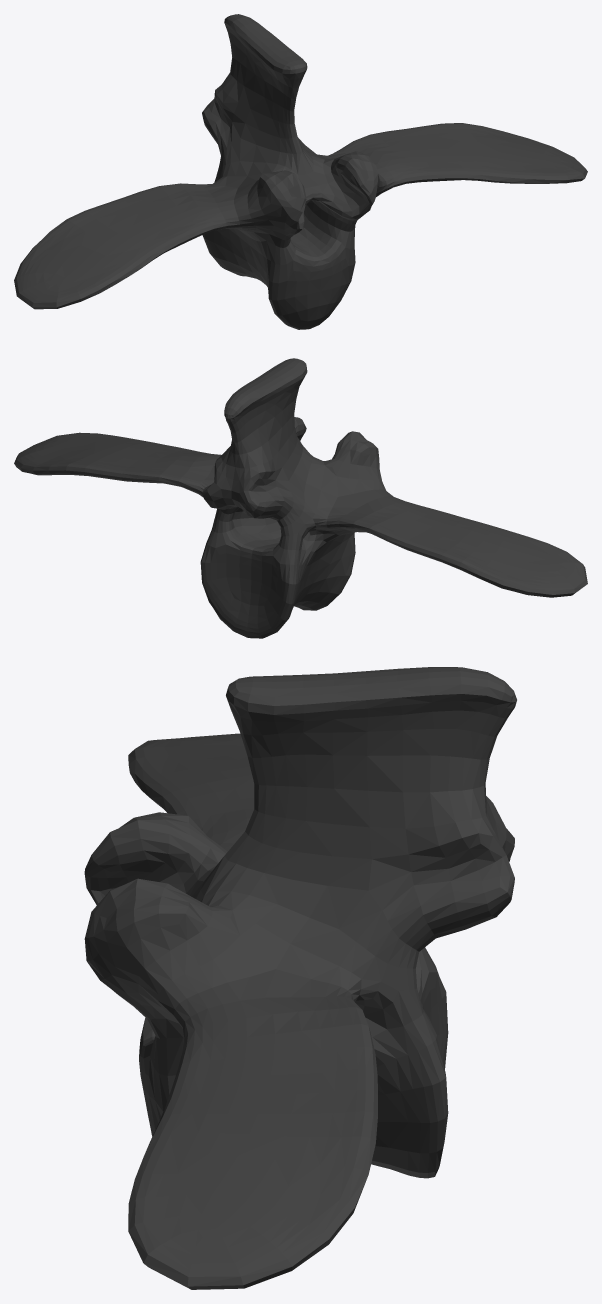
3 renders of one model, top to bottom at view 1: azimuth 30°, elevation 25°; view 2: azimuth 150°, elevation 25°; view 3: azimuth 270°, elevation 25°, orthographic. The views are drawn at different scales.
Parts seen in each view (by area): view 1: b_L3_LO; view 2: b_L3_LO; view 3: b_L3_LO.
Boxes of the visible parts, box(x1,y1,x2,y2) form: b_L3_LO: box(14, 14, 587, 329); b_L3_LO: box(14, 358, 587, 638); b_L3_LO: box(84, 667, 516, 1289).
Bounding box in the file's own units: 0.00268 × 0.00121 × 0.000898.
Materials: 1 (1 with a texture image).
